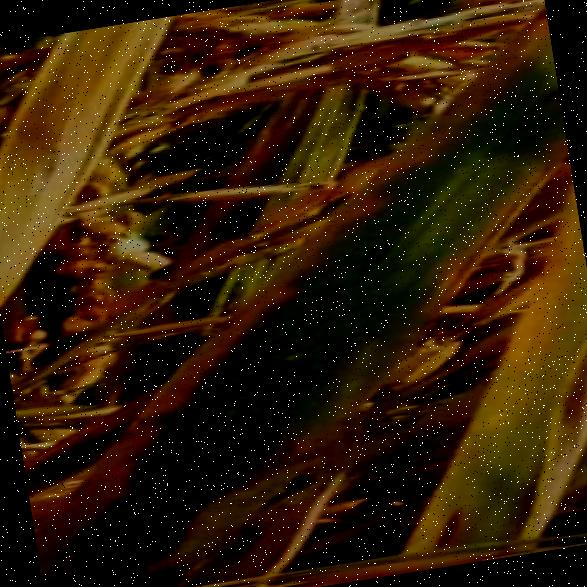Bacteria_Leaf_Blight: (356, 74, 534, 283), (473, 321, 587, 539)
